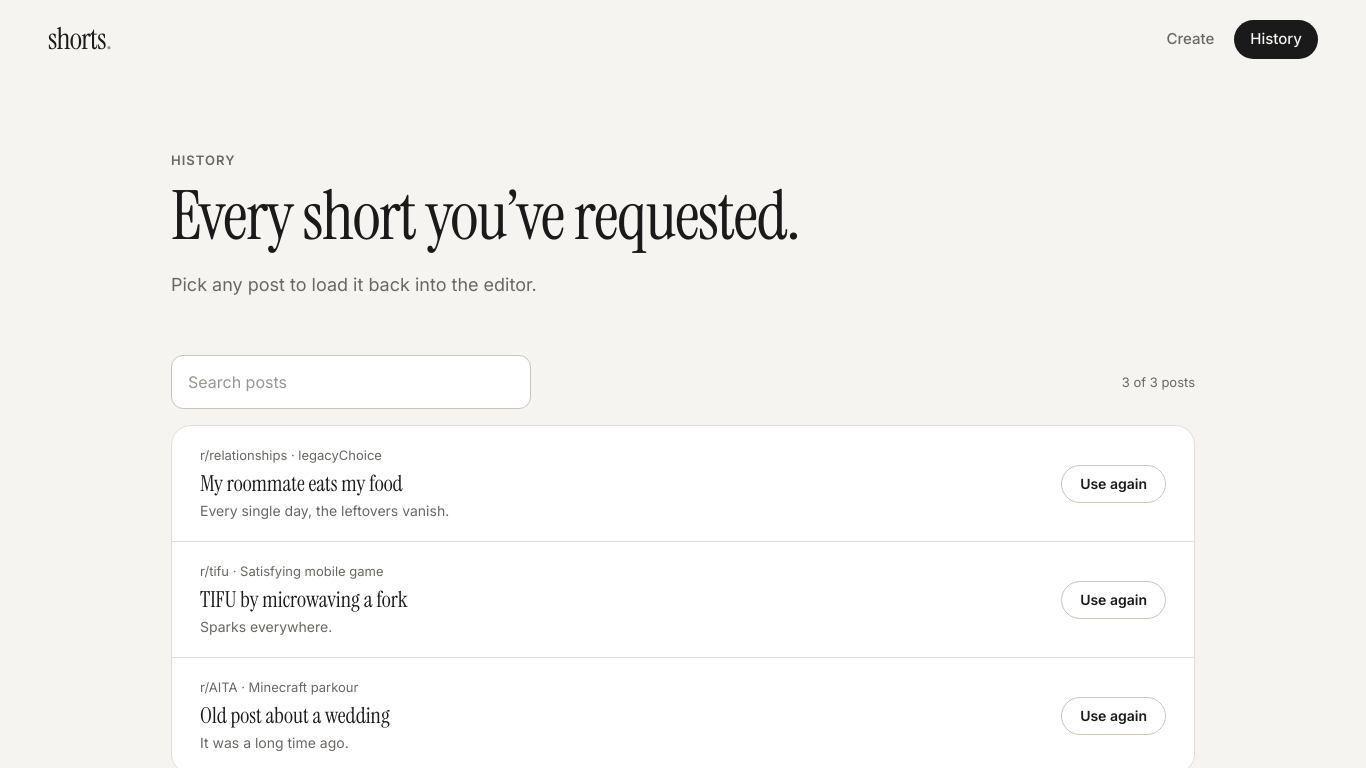
Test: search › updates the count
Expected: the heading "TIFU by microwaving a fork" is shown, [200, 585, 408, 614]
Type "fork" into the search field.
click(351, 382); type("fork")  # box [171, 355, 531, 409]
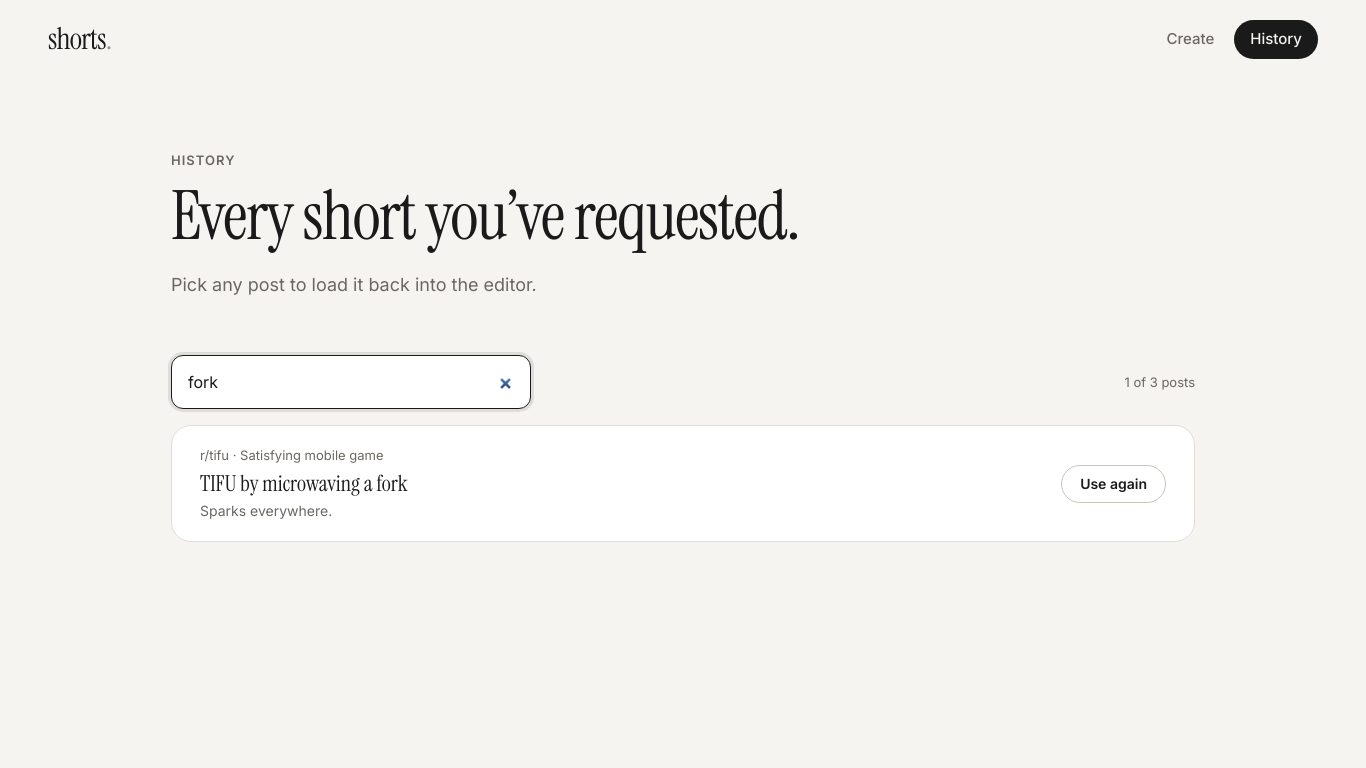
Result: the text "1 of 3 posts" is shown at [1124, 373, 1195, 392]
